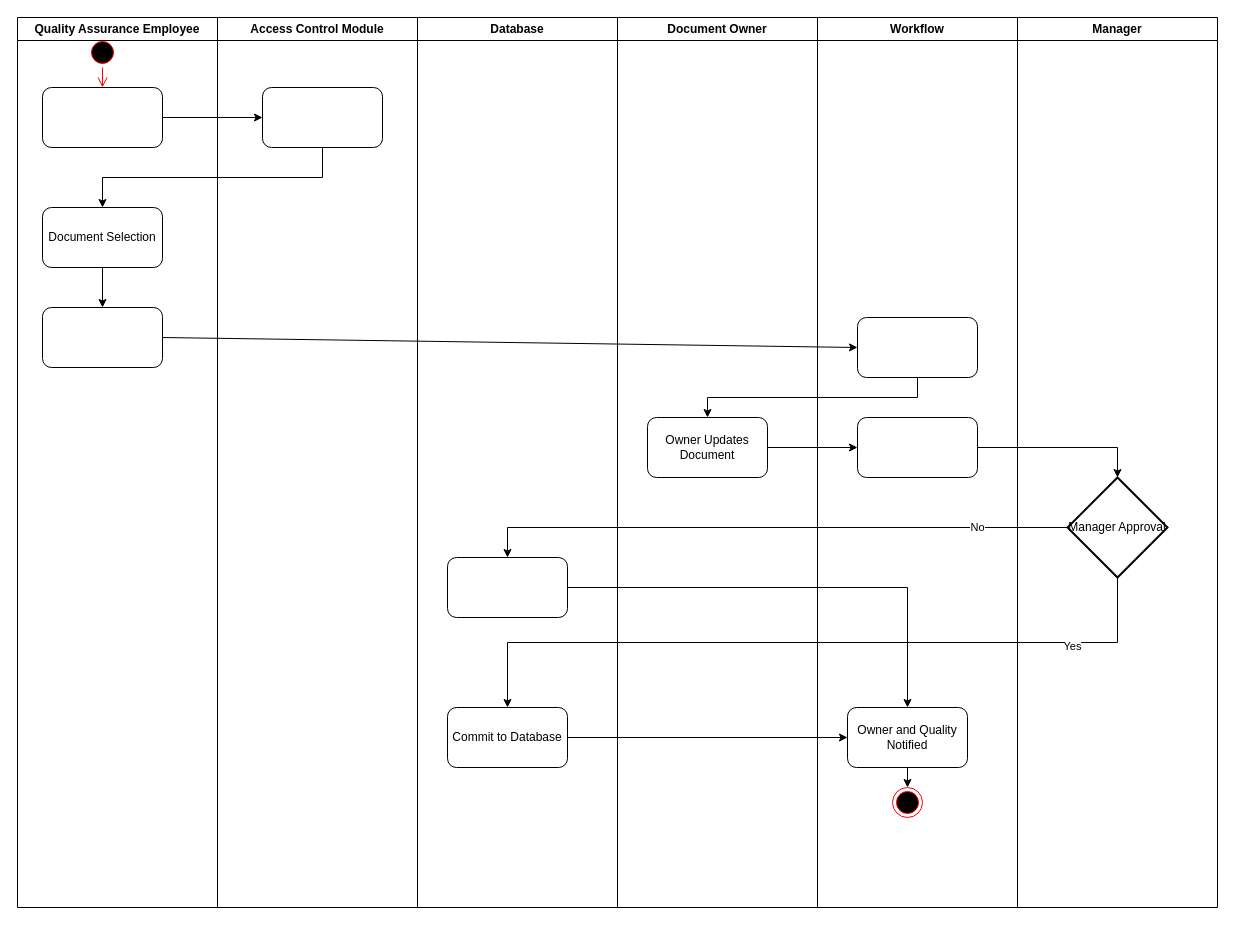
This 1235x925 diagram has some shape labels left out. The shapes that lost their labels are listed below. From the top down, each one's centre as x and y in pixels, then its label:
At (102,117): "Quality assurance Login".
At (322,117): "Permissions granted".
At (102,337): "Review Document and Submit Revision Suggestions".
At (917,347): "Document owner Notified".
At (917,447): "Manager Notified".
At (507,587): "Non commit to Database".
